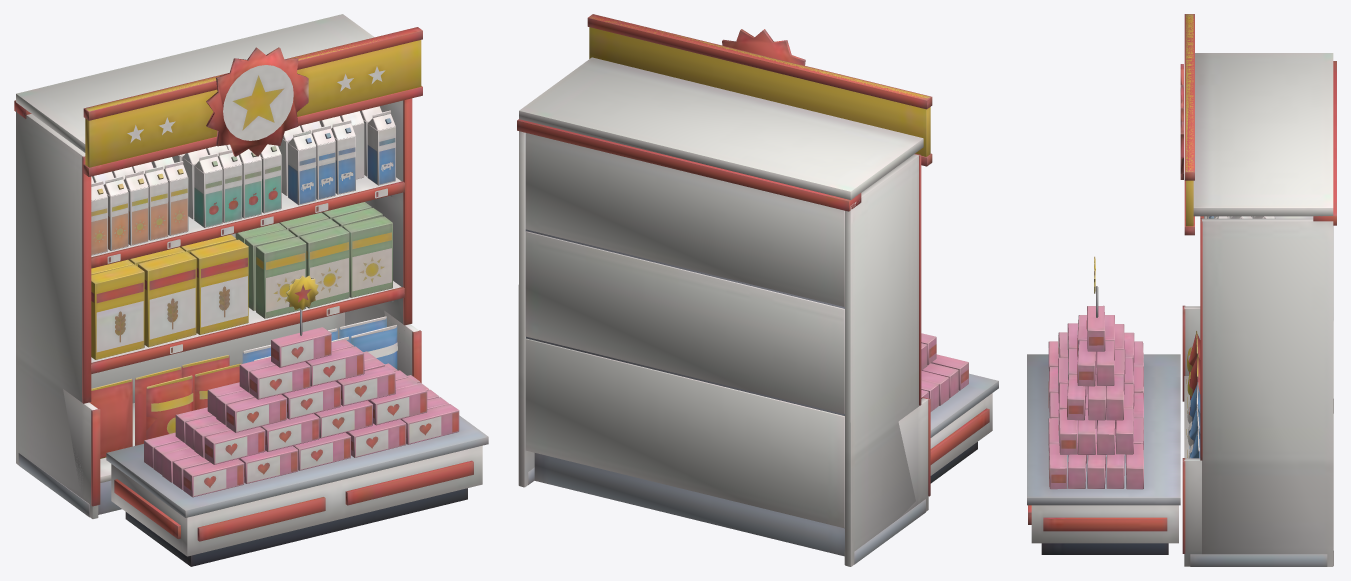
Rendered from g3-end-cap-display-lite.glb.
3 renders of one model, left to right at view 1: azimuth 30°, elevation 25°; view 2: azimuth 150°, elevation 25°; view 3: azimuth 270°, elevation 25°, orthographic. The views are drawn at different scales.
Visible parts, largest first — view 1: end-cap-display_body; view 2: end-cap-display_body; view 3: end-cap-display_body.
Part boxes in pixels (x1,y1,x2,y2): end-cap-display_body: (14,14,488,566); end-cap-display_body: (517,14,998,566); end-cap-display_body: (1027,14,1336,566).
Bounding box in the file's own units: 1.27 × 1.58 × 1.05.
Materials: 2 (1 with a texture image).
